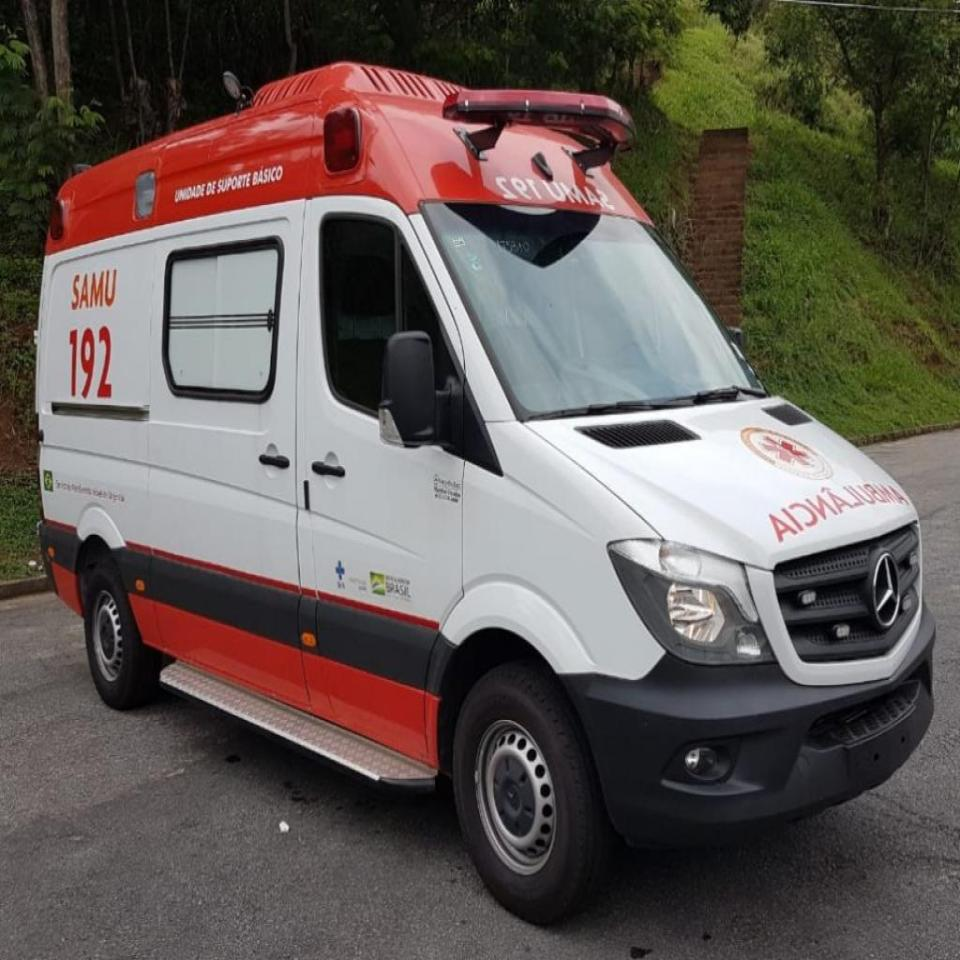bombeiro: (29, 59, 940, 934)
